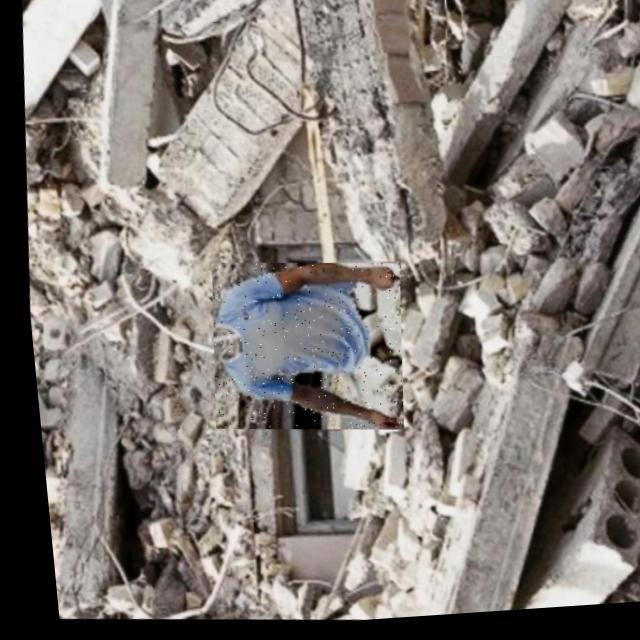Person in Rubble: (194, 254, 406, 443)
